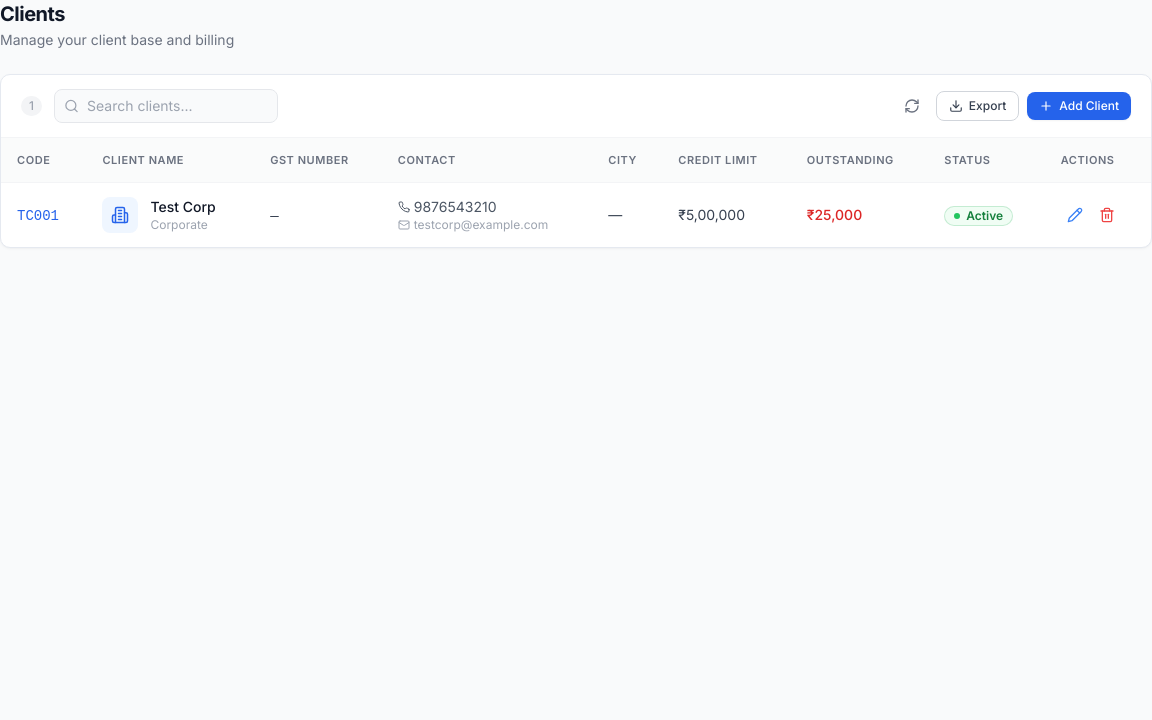
Scenario: ClientsPage › opens create modal on button click
The image size is (1152, 720).
Click the button "Add Client".
click(1079, 106)  # box x1=1027 y1=92 x2=1131 y2=120
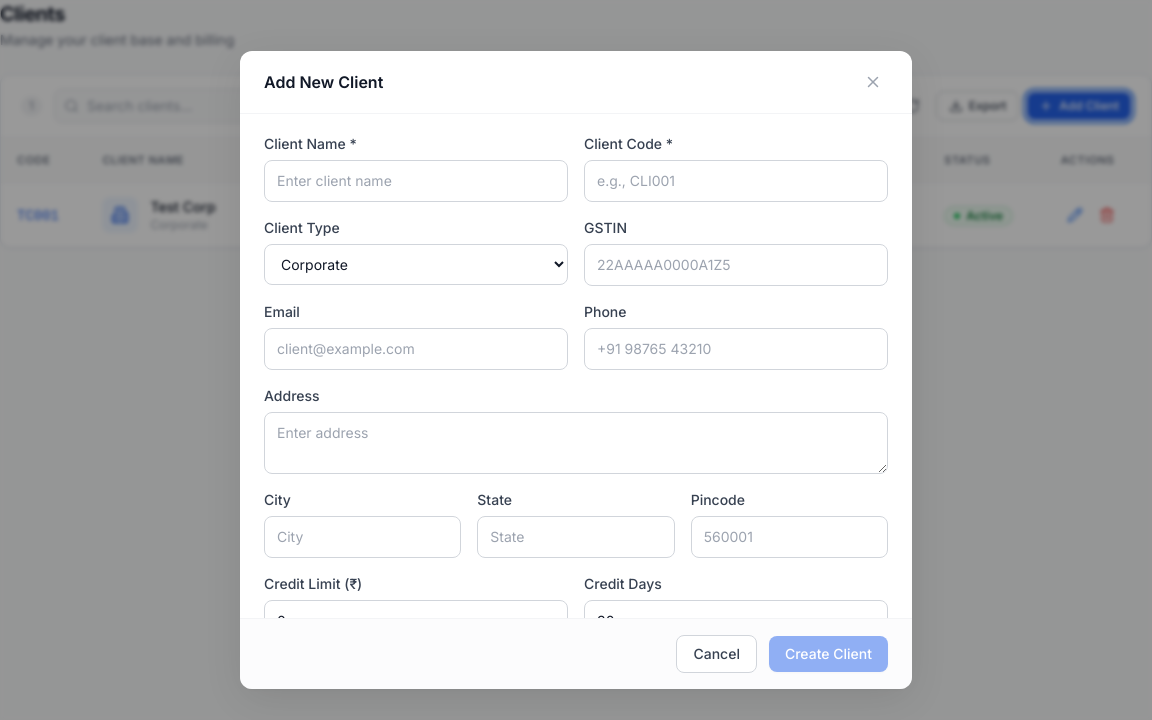
Expected: the heading "Add New Client" is shown, x1=264 y1=70 x2=383 y2=94
